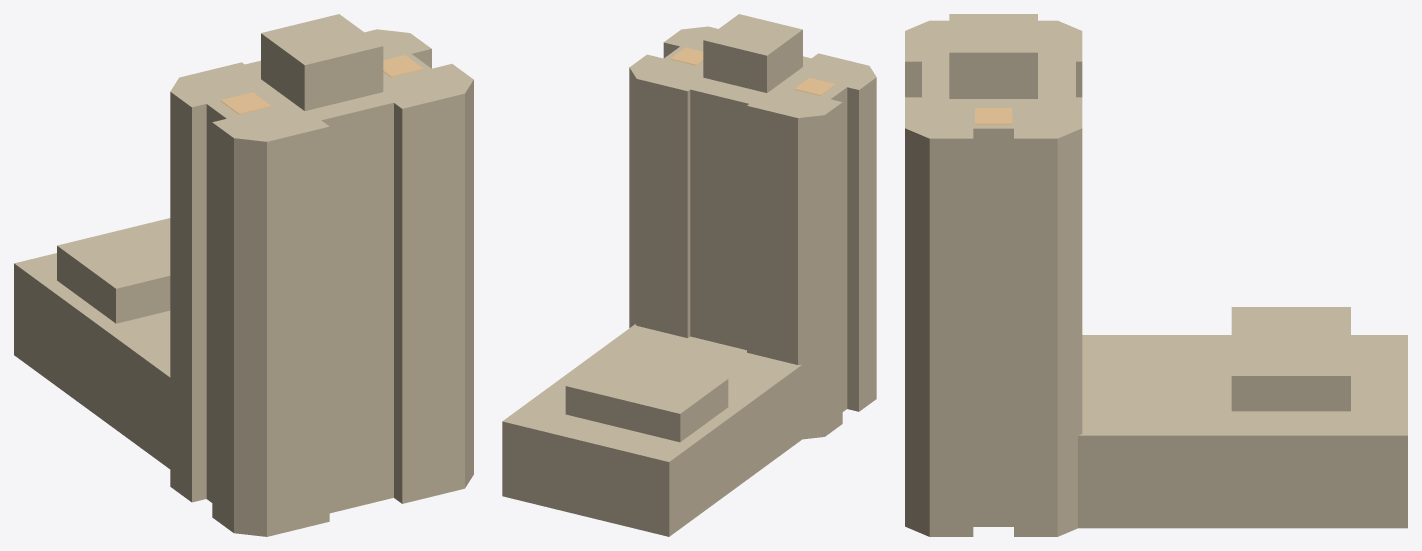
The model's file is saudi_pak_tower_far.glb.
The picture shows the model from 3 angles, left to right: view 1: azimuth 30°, elevation 25°; view 2: azimuth 150°, elevation 25°; view 3: azimuth 270°, elevation 25°; orthographic projection. The views are drawn at different scales.
Parts seen in each view (by area): view 1: m_stone_beige, m_slit_dark; view 2: m_stone_beige, m_slit_dark; view 3: m_stone_beige, m_slit_dark.
Part boxes in pixels (left/top/right/bottom): m_stone_beige: left=14, top=14, right=473, bottom=536; m_slit_dark: left=220, top=55, right=423, bottom=114; m_stone_beige: left=502, top=14, right=876, bottom=536; m_slit_dark: left=670, top=47, right=835, bottom=95; m_stone_beige: left=905, top=14, right=1407, bottom=536; m_slit_dark: left=975, top=108, right=1012, bottom=124.
Size of the model in its own units: 41 by 72 by 73.8.
